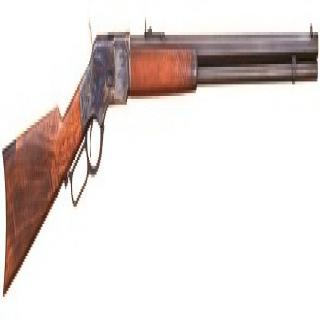gun: (2, 6, 317, 308)
